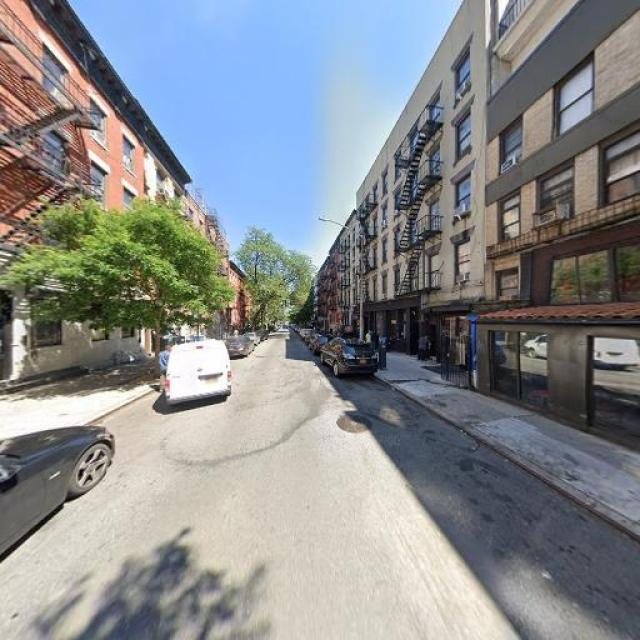Building: (1, 1, 232, 409), (489, 1, 640, 457), (365, 1, 485, 397)
